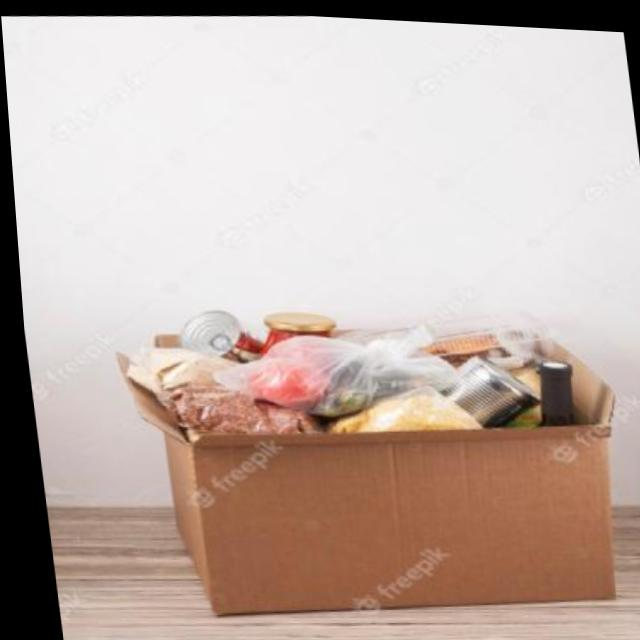box: (70, 272, 640, 640)
